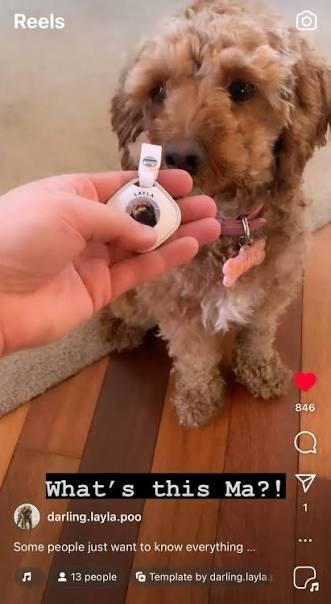adult_dog: (93, 0, 331, 431)
